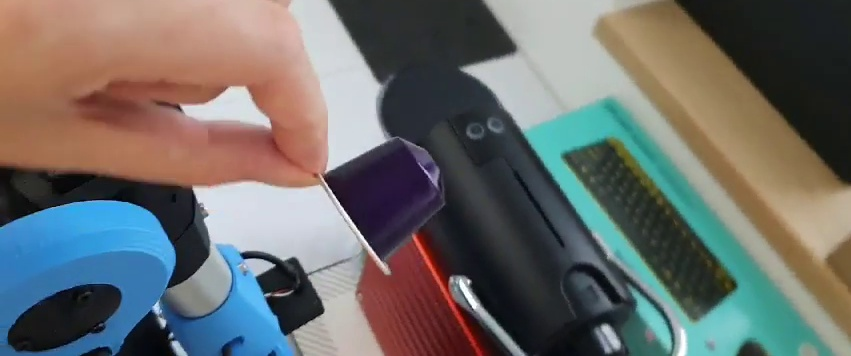capsule_11: (316, 135, 450, 276)
